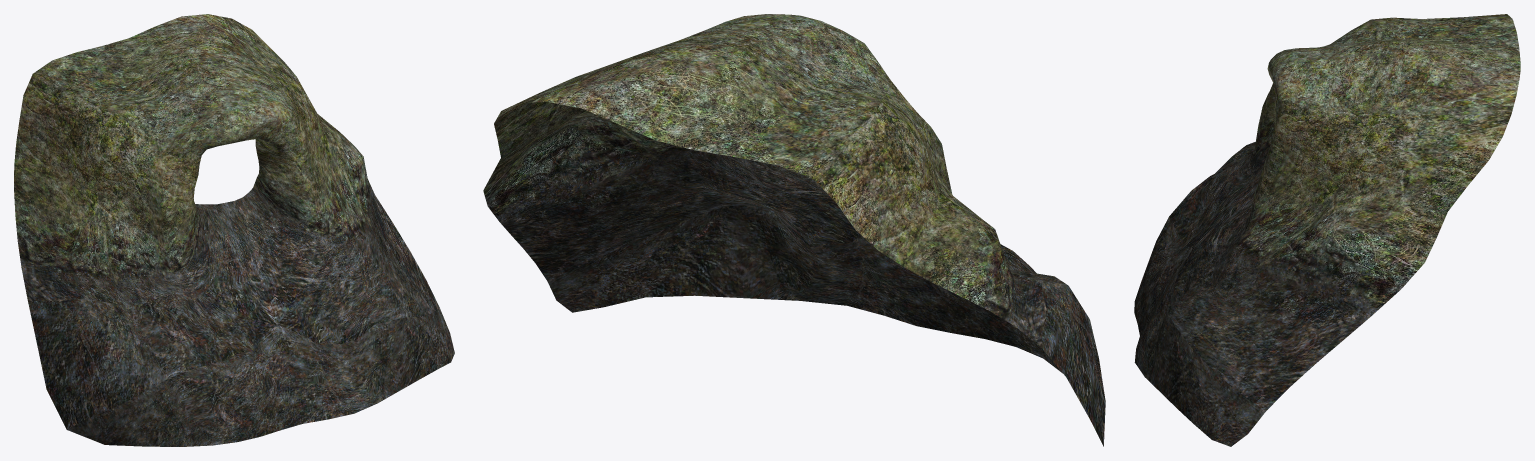
The model's file is thm_all_cave_s02_damprock_mirror_r0_mesh_l0.fbx.
3 renders of one model, left to right at view 1: azimuth 30°, elevation 25°; view 2: azimuth 150°, elevation 25°; view 3: azimuth 270°, elevation 25°, orthographic. The views are drawn at different scales.
Parts seen in each view (by area): view 1: mesh_node; view 2: mesh_node; view 3: mesh_node.
Boxes of the visible parts, x1,y1,x2,y2 form: mesh_node: (14, 14, 454, 446); mesh_node: (483, 14, 1105, 446); mesh_node: (1134, 14, 1520, 446).
Bounding box in the file's own units: 48.97 × 34.28 × 39.36.
